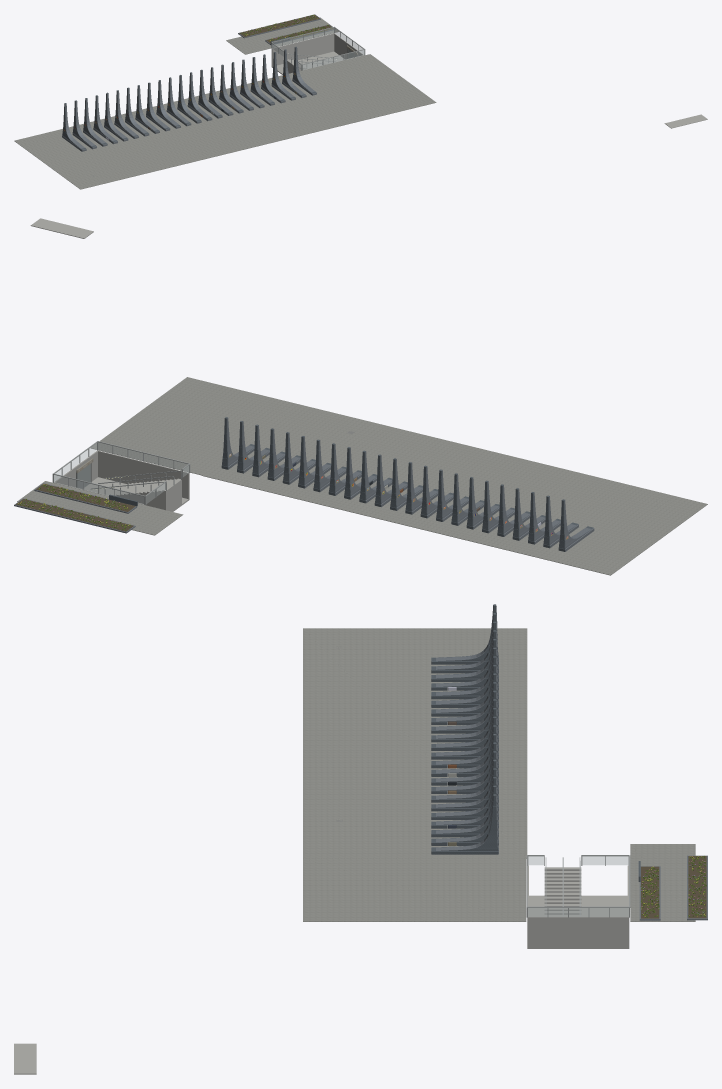
Rendered from gratitude-plaza.glb.
3 renders of one model, top to bottom at view 1: azimuth 30°, elevation 25°; view 2: azimuth 150°, elevation 25°; view 3: azimuth 270°, elevation 25°, orthographic. The views are drawn at different scales.
Visible parts, largest first — view 1: Garden plaza / grey apron and joints / Pale grey squared pla, Freedom entrance side retaining walls, Freedom entrance perimeter glass guard, Freedom Hall / marked garden beds and granite borders / Dark, Garden / low mixed flowering borders / Cut perennial leaves, Freedom Hall / marked garden beds and granite borders / Hone, Freedom entrance floor, Gratitude Light 02 / Australia / Honed granite bevel, Gratitude Light 19 / Colombia / Honed granite bevel, Gratitude Light 21 / Italy / Honed granite bevel, Gratitude Light 05 / Canada / Honed granite bevel, Gratitude Light 17 / Denmark / Honed granite bevel (+18 smaller); view 2: Garden plaza / grey apron and joints / Pale grey squared pla, Freedom entrance side retaining walls, Freedom entrance perimeter glass guard, Freedom entrance descending treads, Freedom Hall / marked garden beds and granite borders / Dark, Garden / low mixed flowering borders / Cut perennial leaves, Freedom Hall / marked garden beds and granite borders / Hone, Watercourse pedestrian bridge at crossing; view 3: Garden plaza / grey apron and joints / Pale grey squared pla, Freedom entrance side retaining walls, Freedom Hall / marked garden beds and granite borders / Dark, Freedom entrance descending treads, Freedom entrance floor, Garden / low mixed flowering borders / Cut perennial leaves, Freedom entrance perimeter glass guard, Gratitude Light 23 / Republic of Korea / Salt-and-pepper cha, Watercourse pedestrian bridge at crossing.
Boxes of the visible parts, x1=… form: Garden plaza / grey apron and joints / Pale grey squared pla: x1=14, y1=17, x2=436, y2=189; Freedom entrance side retaining walls: x1=271, y1=33, x2=364, y2=70; Freedom entrance perimeter glass guard: x1=272, y1=28, x2=364, y2=69; Freedom Hall / marked garden beds and granite borders / Dark: x1=239, y1=14, x2=333, y2=43; Garden / low mixed flowering borders / Cut perennial leaves: x1=240, y1=14, x2=331, y2=41; Freedom Hall / marked garden beds and granite borders / Hone: x1=238, y1=14, x2=335, y2=45; Freedom entrance floor: x1=271, y1=51, x2=344, y2=74; Gratitude Light 02 / Australia / Honed granite bevel: x1=72, y1=101, x2=96, y2=149; Gratitude Light 19 / Colombia / Honed granite bevel: x1=250, y1=57, x2=274, y2=105; Gratitude Light 21 / Italy / Honed granite bevel: x1=271, y1=52, x2=295, y2=100; Gratitude Light 05 / Canada / Honed granite bevel: x1=104, y1=93, x2=128, y2=141; Gratitude Light 17 / Denmark / Honed granite bevel: x1=229, y1=63, x2=253, y2=110; Garden plaza / grey apron and joints / Pale grey squared pla: x1=17, y1=377, x2=707, y2=575; Freedom entrance side retaining walls: x1=54, y1=450, x2=189, y2=504; Freedom entrance perimeter glass guard: x1=54, y1=442, x2=188, y2=504; Freedom entrance descending treads: x1=96, y1=478, x2=181, y2=511; Freedom Hall / marked garden beds and granite borders / Dark: x1=16, y1=483, x2=135, y2=531; Garden / low mixed flowering borders / Cut perennial leaves: x1=17, y1=484, x2=130, y2=530; Freedom Hall / marked garden beds and granite borders / Hone: x1=14, y1=483, x2=137, y2=533; Watercourse pedestrian bridge at crossing: x1=30, y1=218, x2=93, y2=238; Garden plaza / grey apron and joints / Pale grey squared pla: x1=303, y1=628, x2=695, y2=921; Freedom entrance side retaining walls: x1=527, y1=865, x2=629, y2=947; Freedom Hall / marked garden beds and granite borders / Dark: x1=641, y1=856, x2=706, y2=918; Freedom entrance descending treads: x1=544, y1=867, x2=581, y2=916; Freedom entrance floor: x1=527, y1=895, x2=629, y2=948; Garden / low mixed flowering borders / Cut perennial leaves: x1=640, y1=855, x2=706, y2=917; Freedom entrance perimeter glass guard: x1=528, y1=908, x2=628, y2=916; Gratitude Light 23 / Republic of Korea / Salt-and-pepper cha: x1=431, y1=794, x2=498, y2=854; Watercourse pedestrian bridge at crossing: x1=14, y1=1043, x2=36, y2=1074.
Size of the model in its own units: 103 by 9.67 by 68.
Materials: 25 (13 with a texture image).
